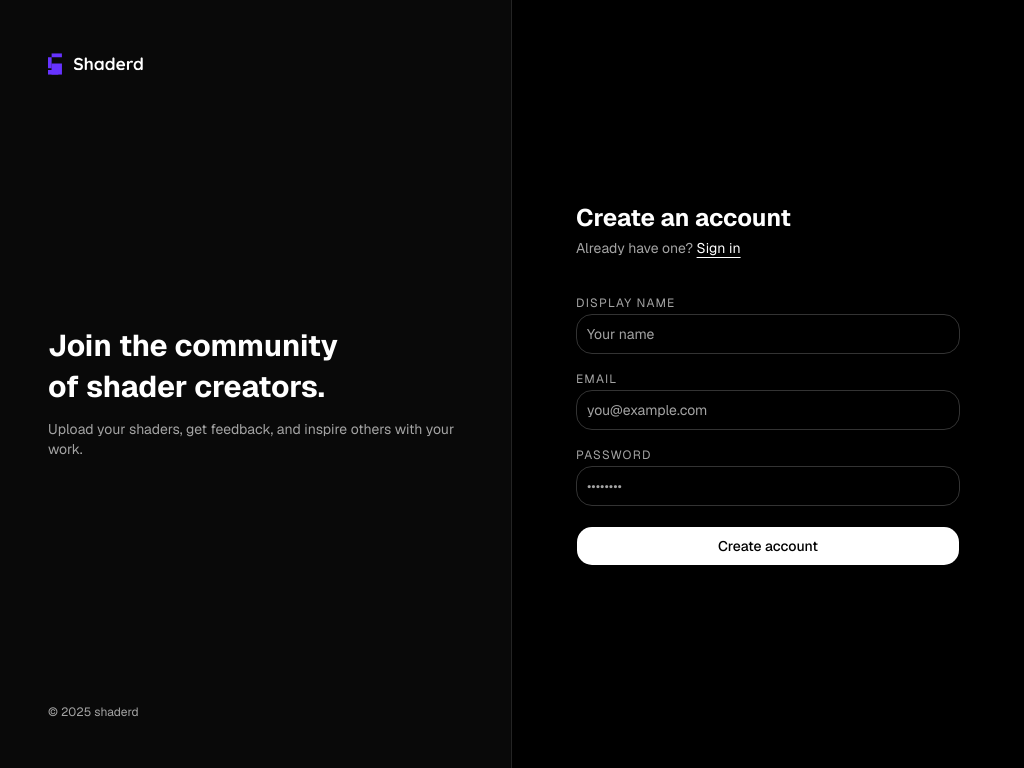
Test case: register page › shows validation errors and duplicate-email message
The image size is (1024, 768).
Expected: the heading "Create an account" is shown, [576,202,791,233]
Expected: the link "Sign in" is shown, [697,239,741,257]
Click the button "Create account" at (768, 546), box [576,526,960,566]
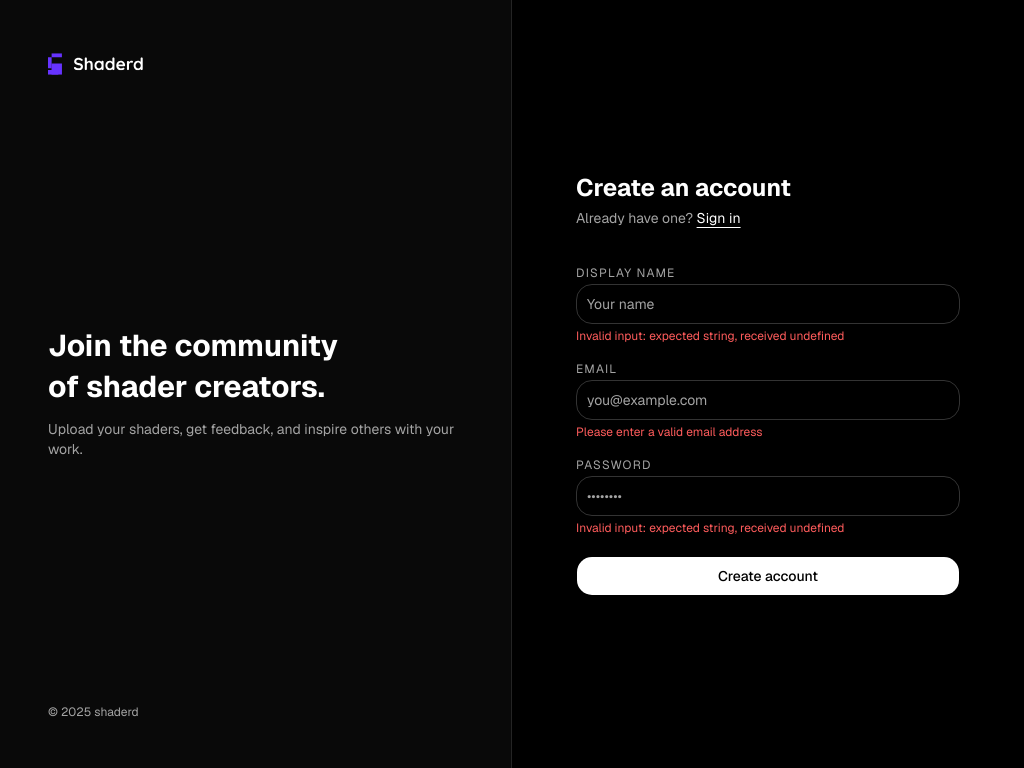
Result: the text "Please enter a valid email address" is shown at [576,424,763,440]
Result: the text "Invalid input: expected string, received undefined" below "Display name" is shown at [576,328,844,344]
Type "123" into the password field with placeholder "••••••••" at (768, 496), box [576,476,960,516]
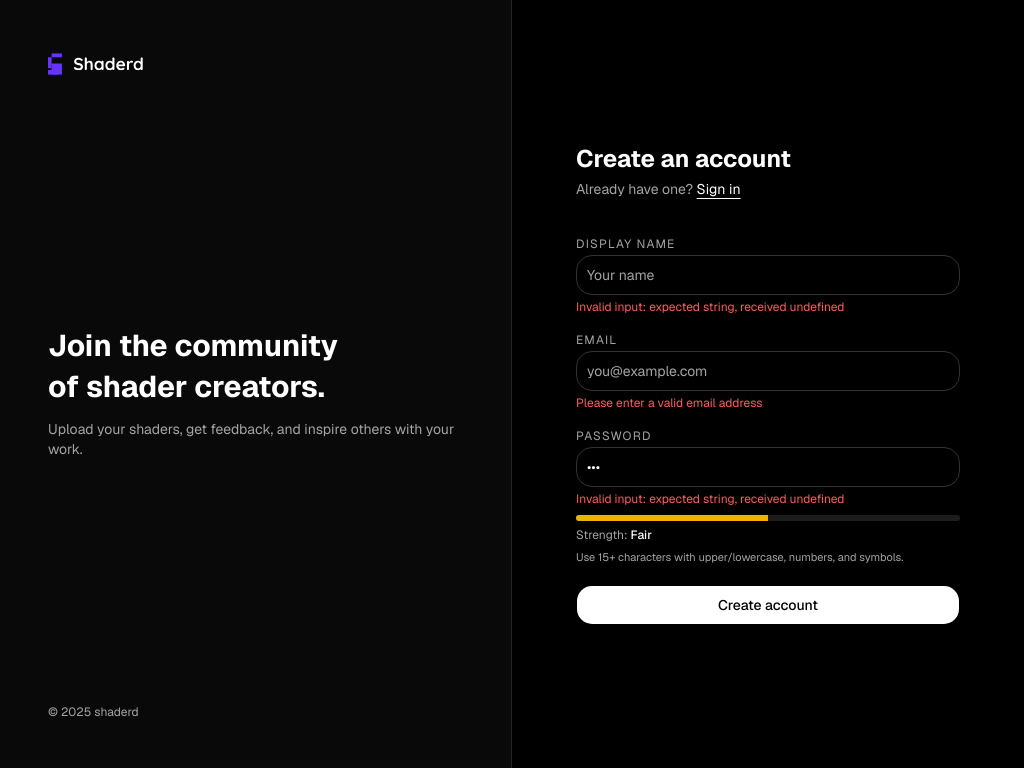
Click the button "Create account" at (768, 605), box [576,585,960,625]
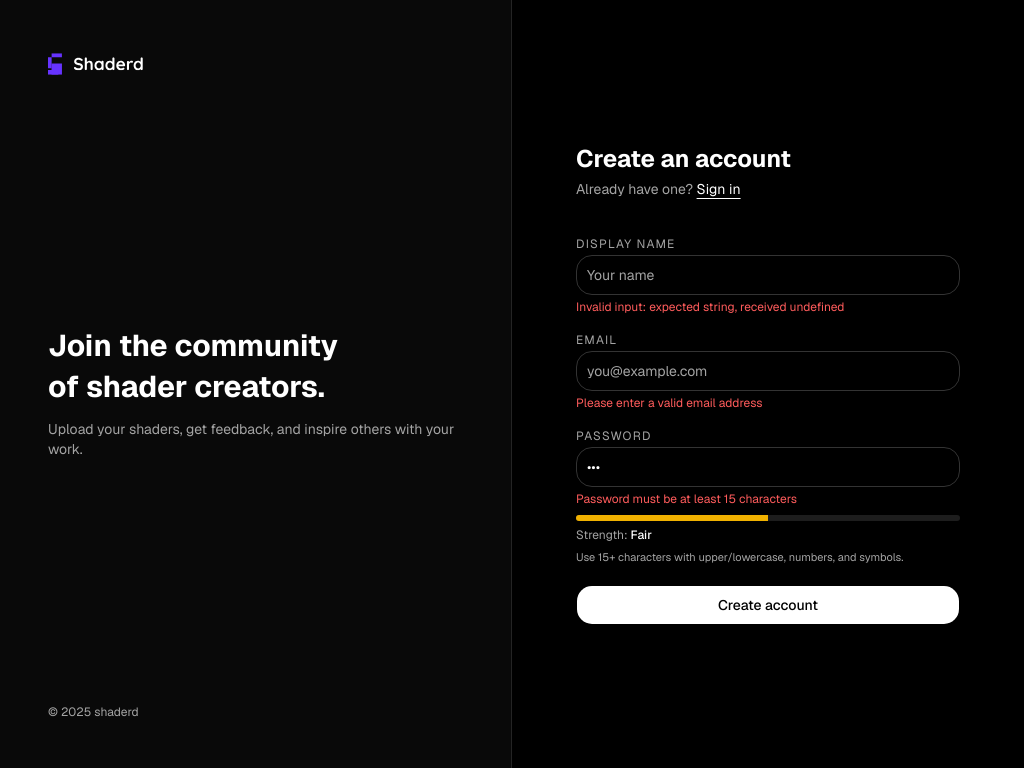
Result: the text "Password must be at least 15 characters" is shown at [576,491,797,507]
Type "John Doe" into the field with placeholder "Your name" at (768, 275), box [576,255,960,295]
Type "john@example.com" into the field with placeholder "you@example.com" at (768, 371), box [576,351,960,391]
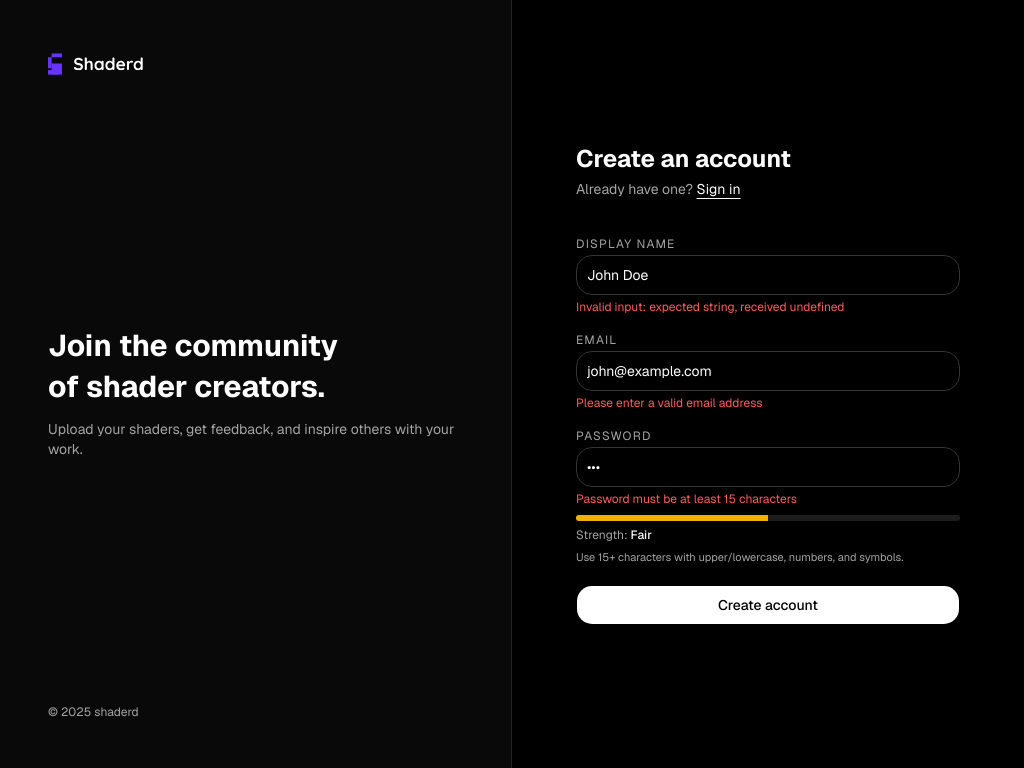
Type "SecretPassword#123" into the password field with placeholder "••••••••" at (768, 467), box [576,447,960,487]
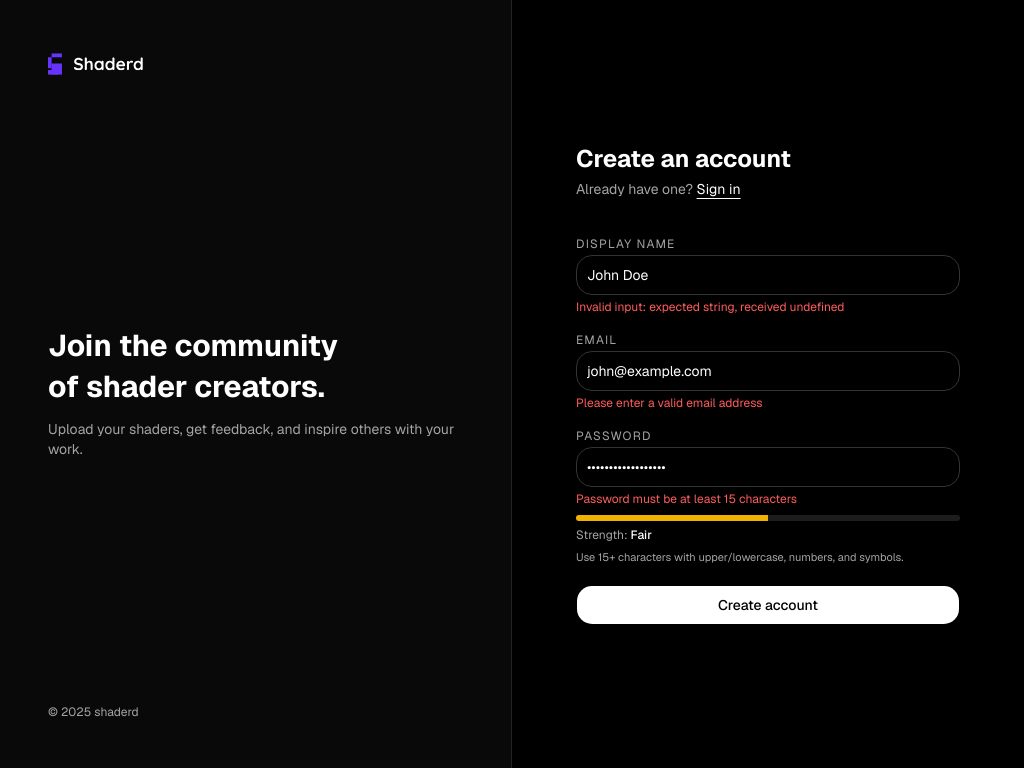
Click the button "Create account" at (768, 605), box [576,585,960,625]
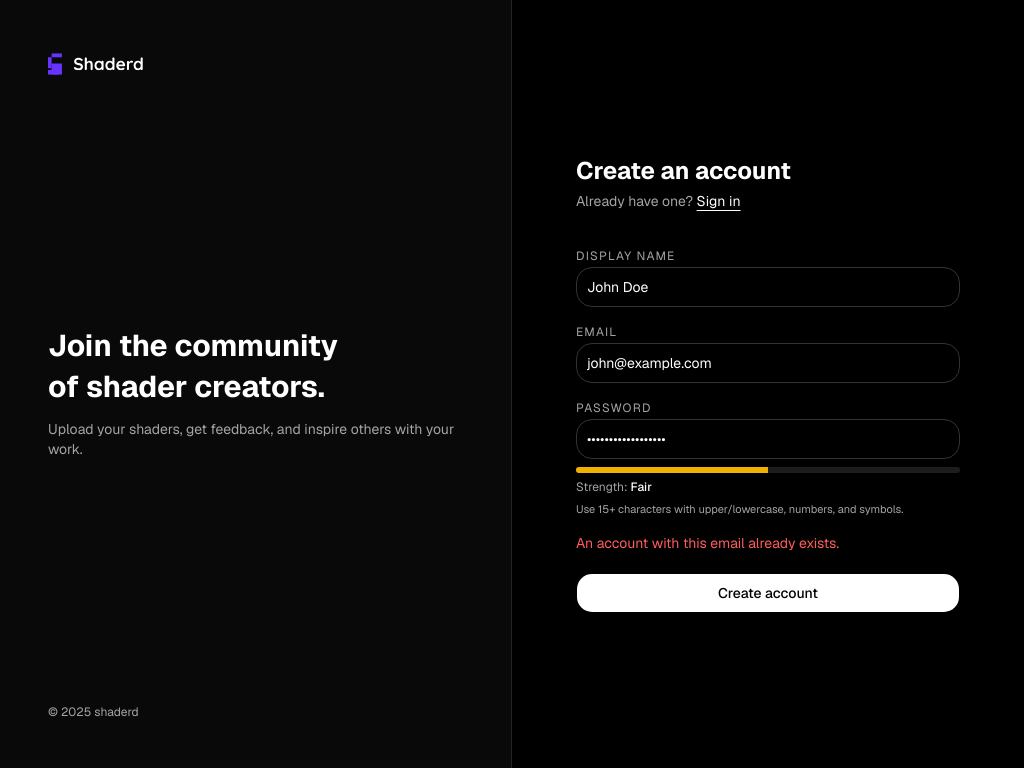
Result: the text "An account with this email already exists." is shown at [576,534,839,552]
